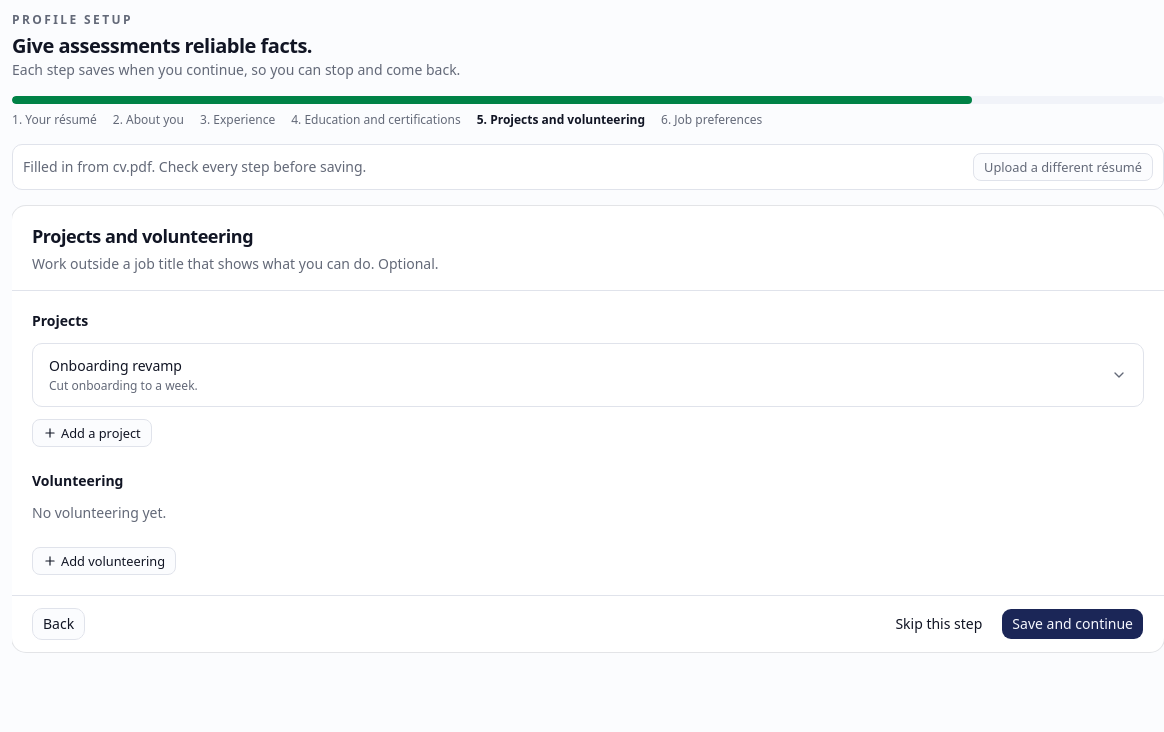
OnboardingPage › steps › Skip saves an optional step empty
The image size is (1164, 732).
What coordinates should you click on to do the following:
click the button "Skip this step"
I would click on:
 (939, 624)
Its box is left=884, top=608, right=993, bottom=640.
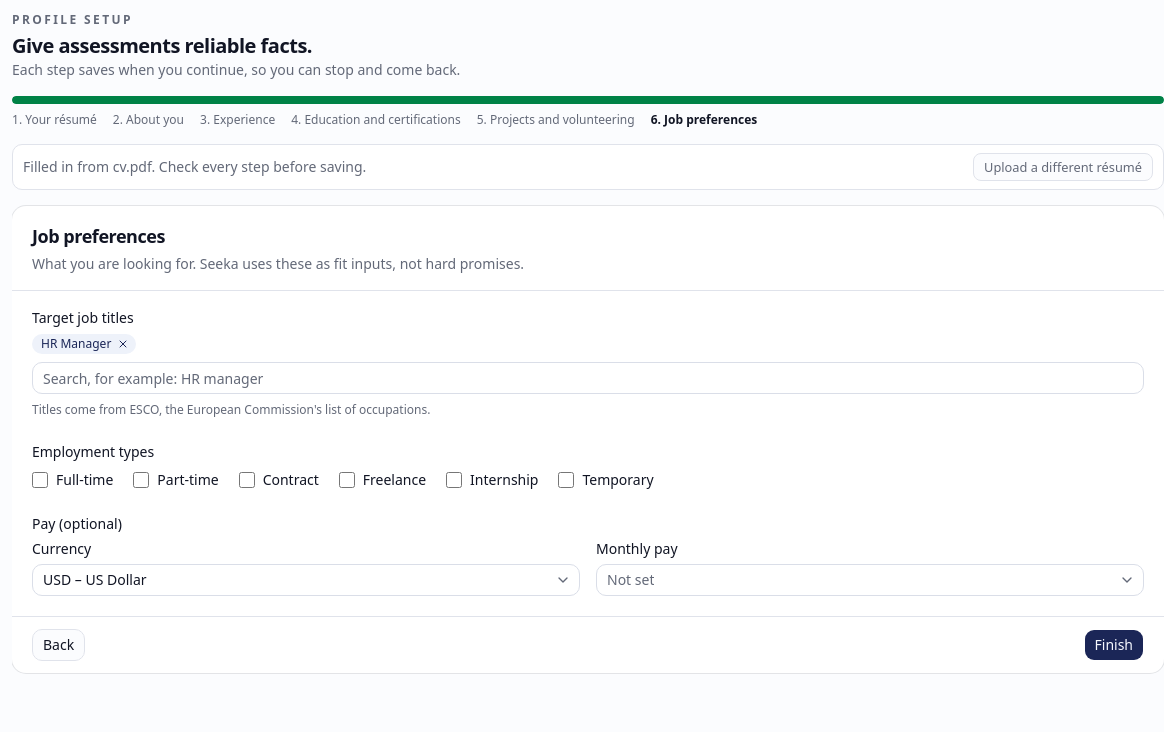
Now the heading "Job preferences" is shown, box left=32, top=224, right=165, bottom=248
